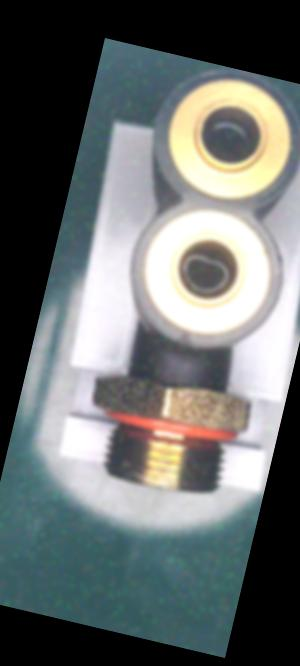bump: (172, 327, 196, 351)
joint line: (174, 352, 189, 379)
off-centered: (173, 249, 235, 301)
